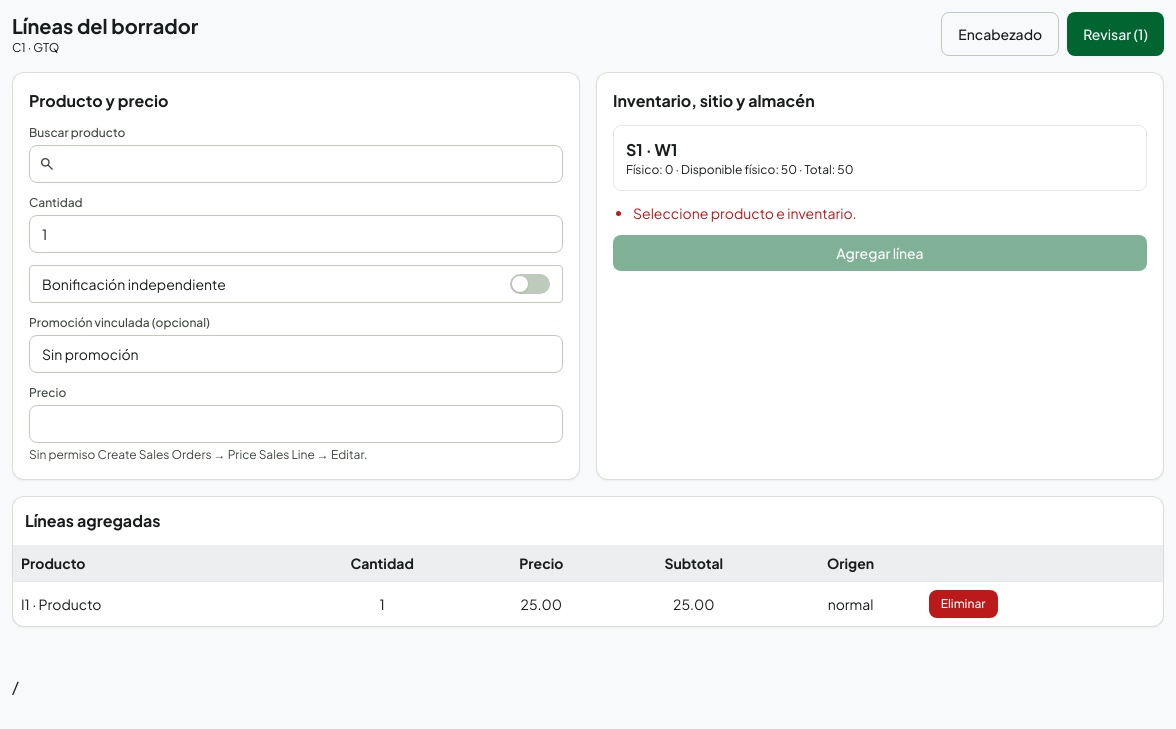
Test: AddOrderLinePage commercial selection › validates a nonpositive quantity before adding
Type "I1" into the field labelled "Buscar producto" at x=296, y=164, box [29,145,563,183]
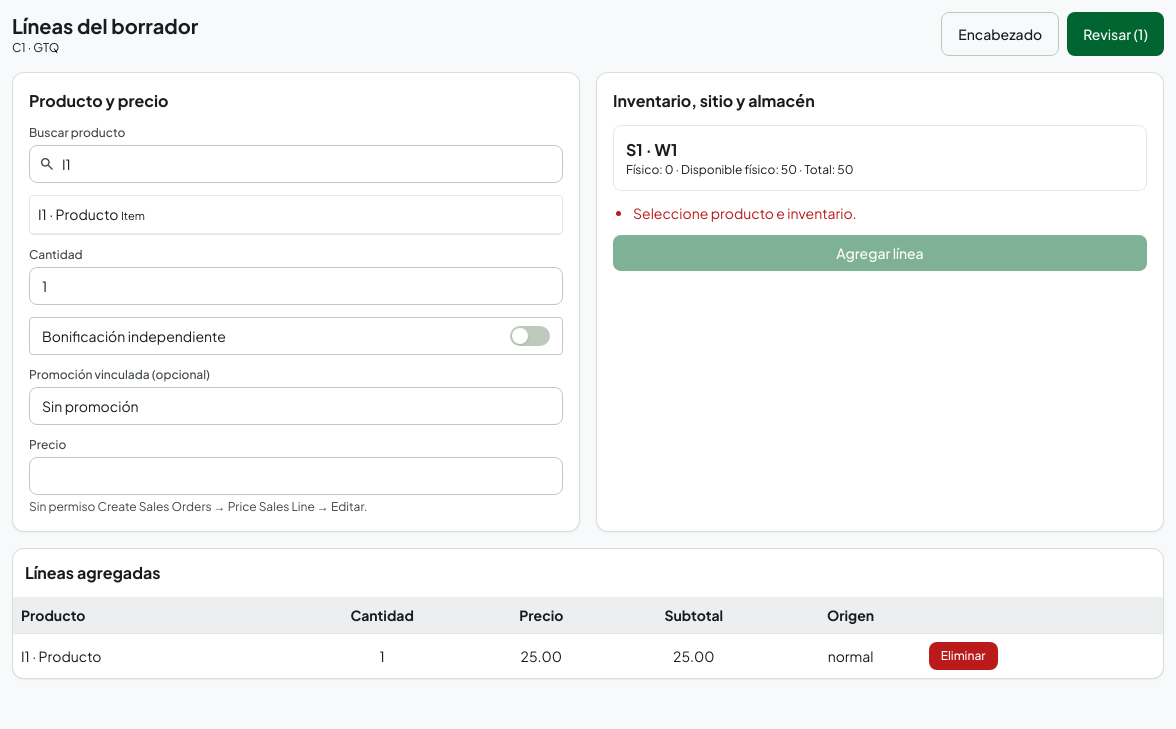
Click the button "I1 · Producto Item" at x=87, y=214, box [30,196,562,234]
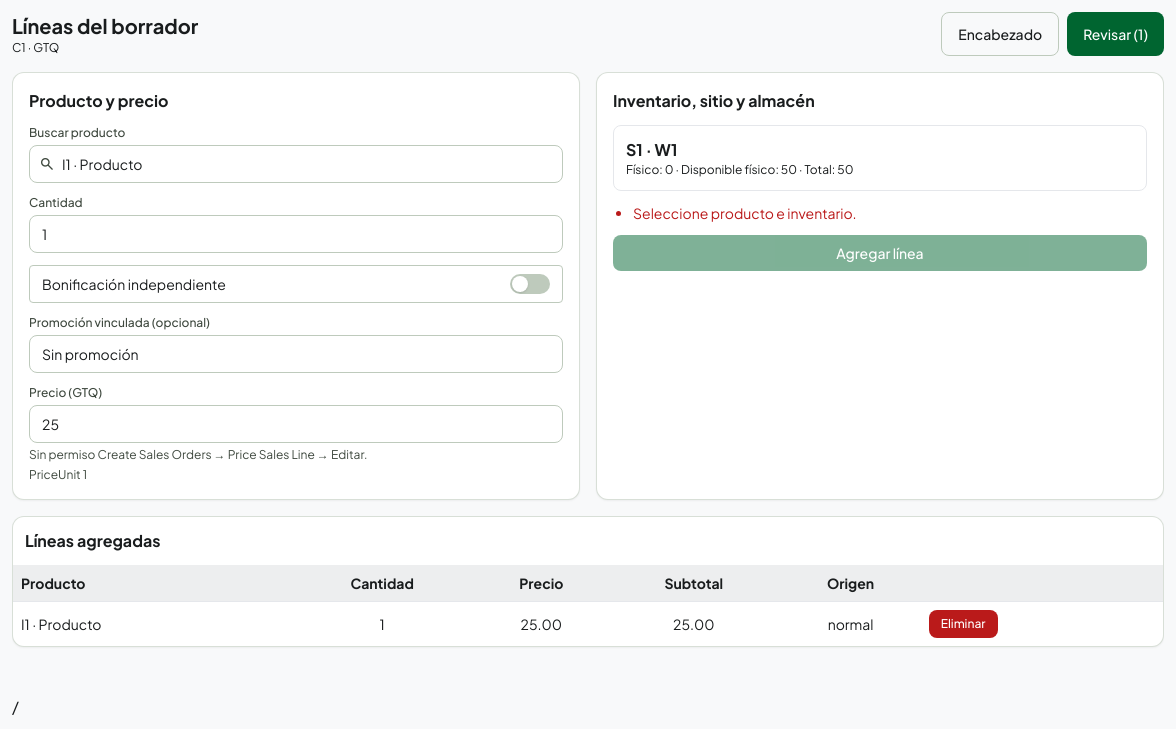
Check: the number field labelled "Precio (GTQ)" holds "25", box [29,405,563,443]
Click the button "S1 · W1 Físico: 0 · Disponible físico: 50 · Total: 50" at x=645, y=170, box [613,125,1147,191]
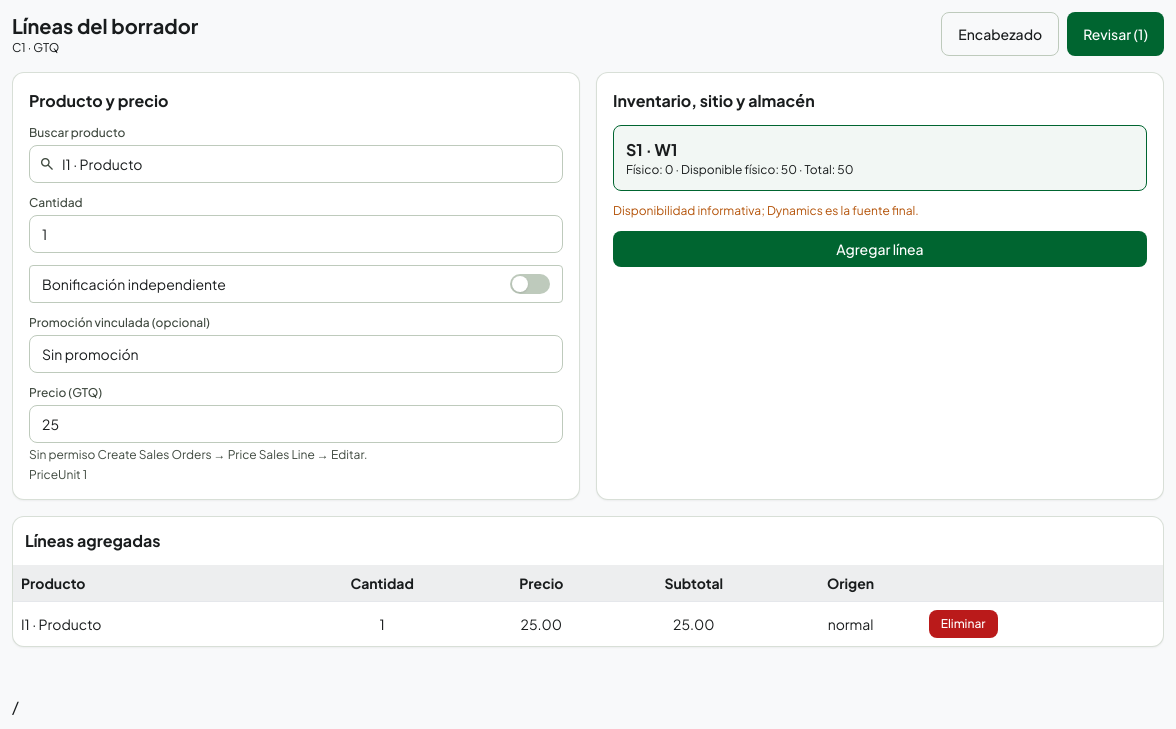
Replace the text in the number field labelled "Cantidad" with "0" at x=296, y=234, box [29,215,563,253]
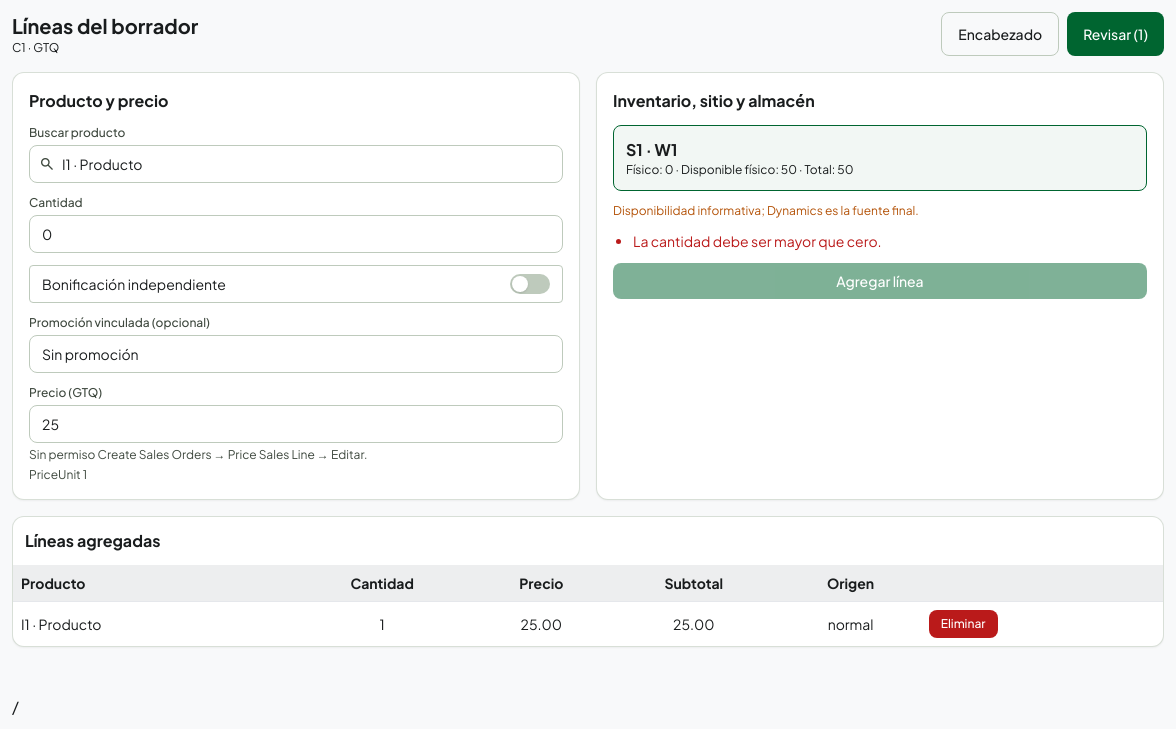
Check: the message reads "La cantidad debe ser mayor que cero.", box [633,232,882,250]
Check: the button "Agregar línea" is disabled, box [613,263,1147,299]
